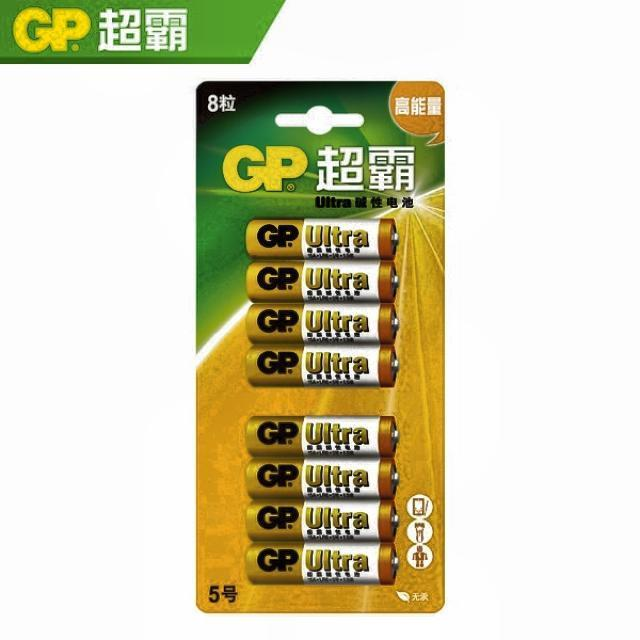battery: (246, 542, 399, 584), (246, 345, 398, 387), (246, 500, 399, 541), (246, 219, 398, 260), (246, 416, 398, 457), (248, 261, 399, 302), (248, 458, 399, 499), (246, 304, 399, 344)
